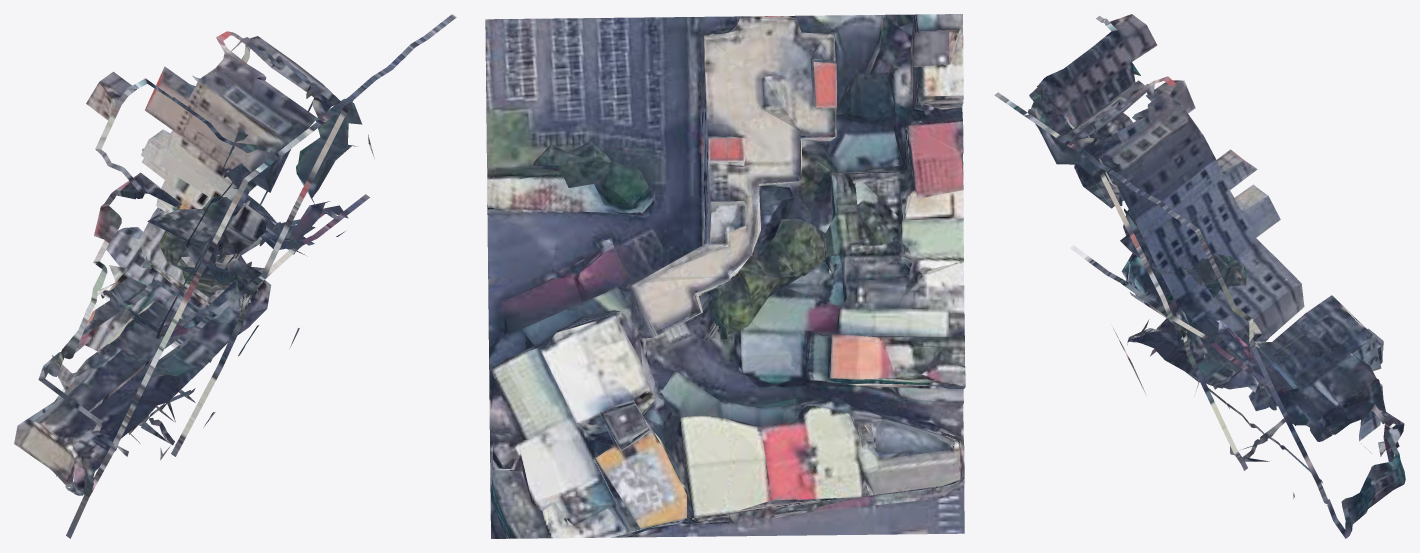
3 renders of one model, left to right at view 1: azimuth 30°, elevation 25°; view 2: azimuth 150°, elevation 25°; view 3: azimuth 270°, elevation 25°, orthographic. The views are drawn at different scales.
Size of the model in its own units: 80.39 by 79.81 by 74.55.
Materials: 2 (2 with a texture image).
